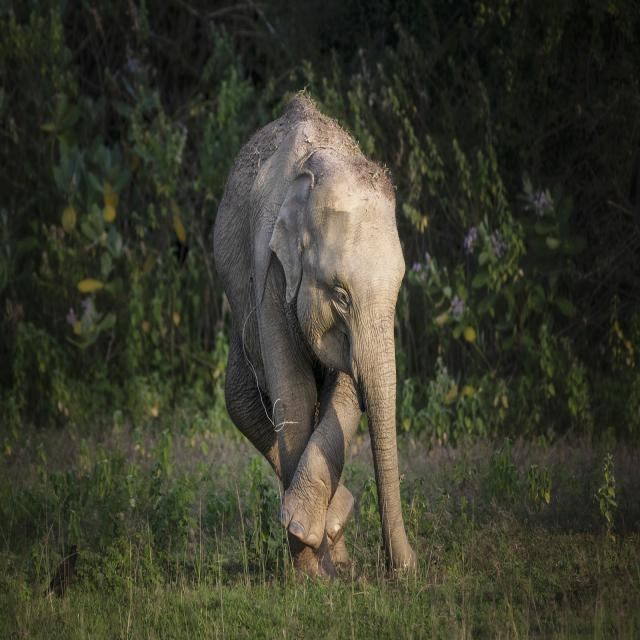Elephant: (204, 87, 440, 592)
